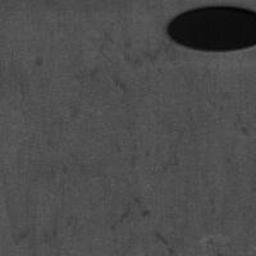Punching: (166, 5, 256, 51)
